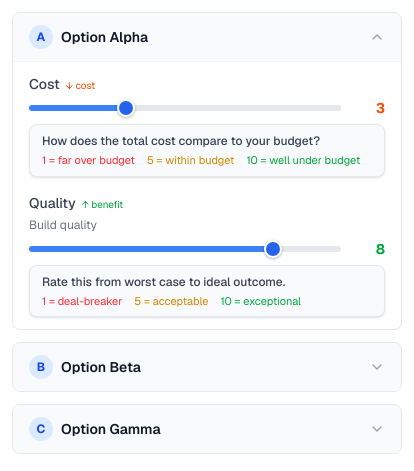
Test: MobileScoreCards › clicking a collapsed card expands it and collapses the other
Note: Click Beta
Click the button "B Option Beta": [101, 367] box 13,343 -> 401,391
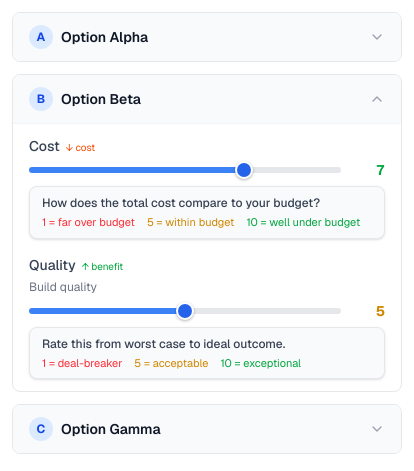
Expected: the button "B Option Beta" is expanded, 13,75 -> 401,123
Expected: the button "A Option Alpha" is collapsed, 13,13 -> 401,61
